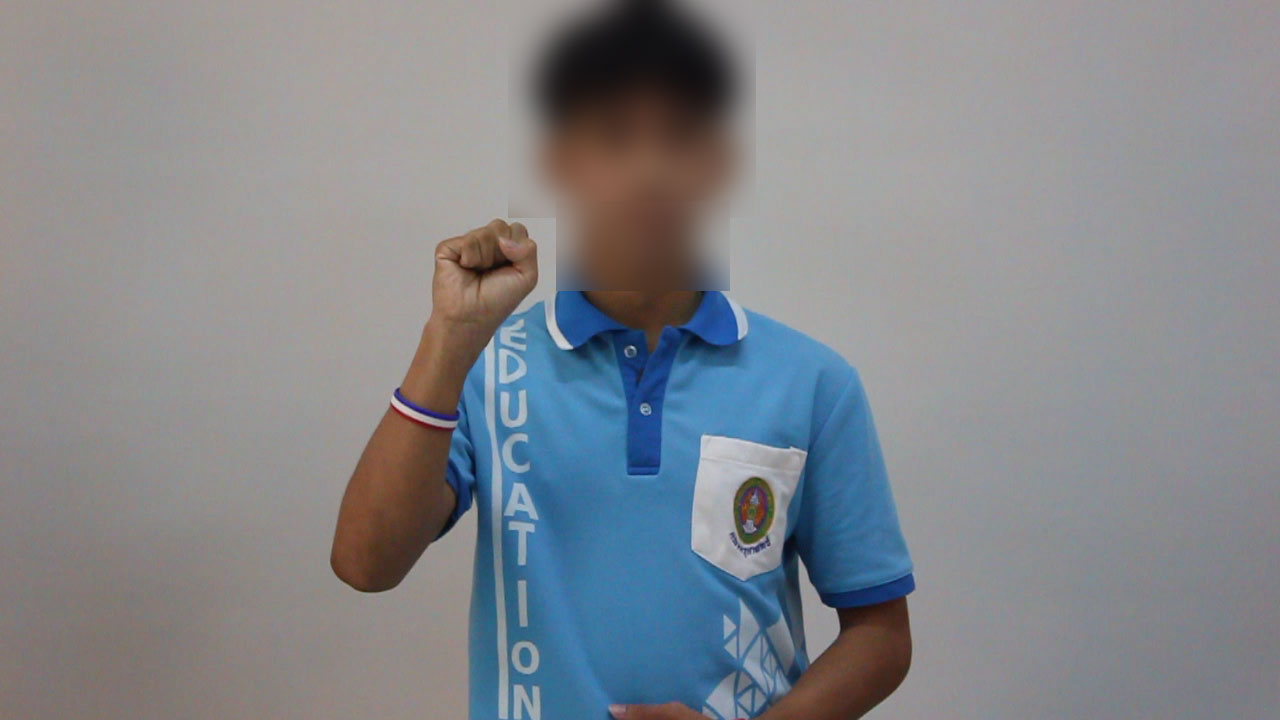sor: (403, 204, 547, 357)
